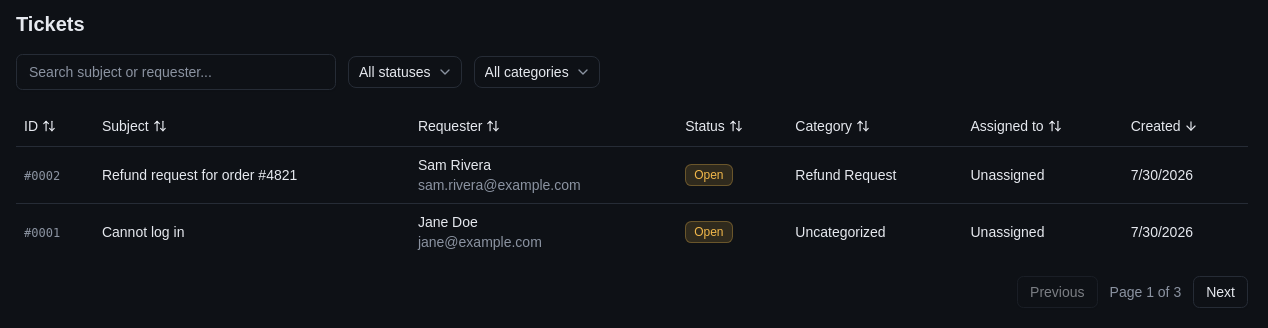
Scenario: Tickets › requests page 2 and disables Next on the last page
Expected: the text "Page 1 of 3" is shown, [1110,282,1181,302]
Click the button "Next": (1221, 292) [1193,276,1248,308]
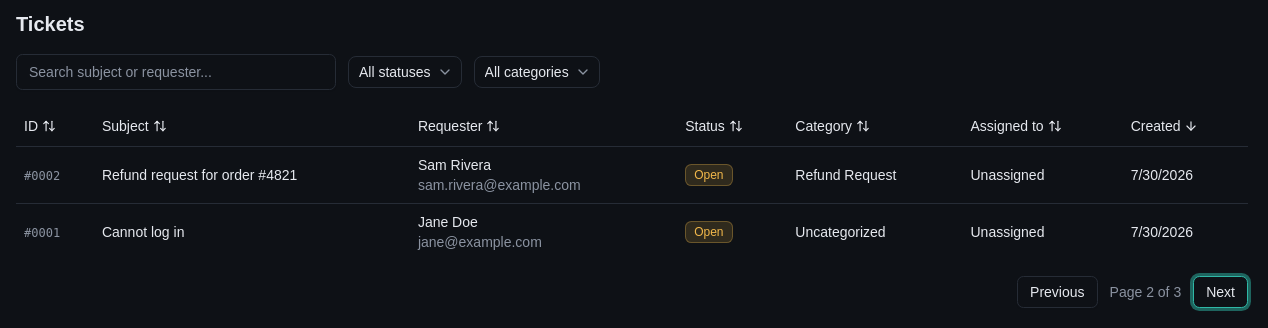
Click the button "Next": (1221, 292) [1193,276,1248,308]
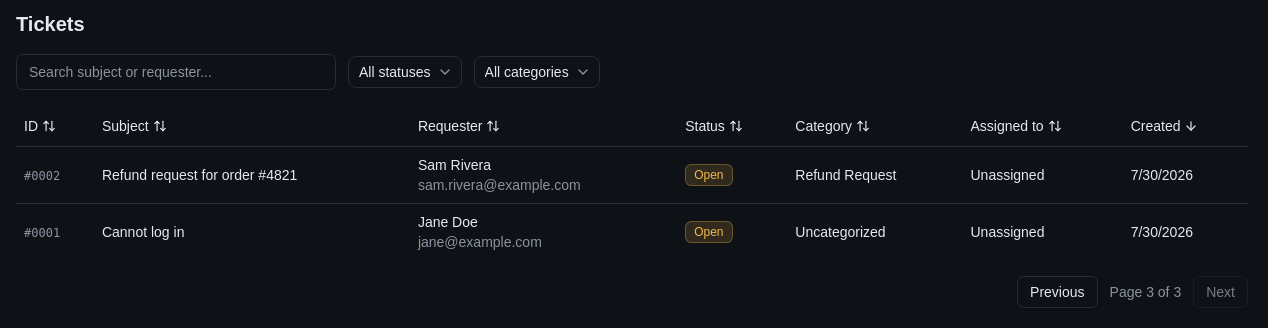
Expected: the text "Page 3 of 3" is shown, [1110,282,1181,302]
Expected: the button "Next" is disabled, [1193,276,1248,308]
